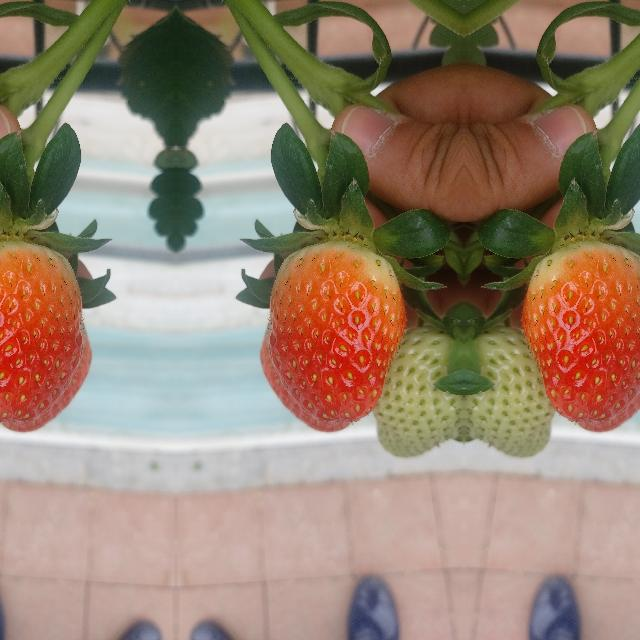Health_100: (268, 240, 404, 422), (521, 240, 640, 421), (0, 240, 82, 421)
Health_25: (380, 322, 460, 456), (466, 322, 546, 456)
